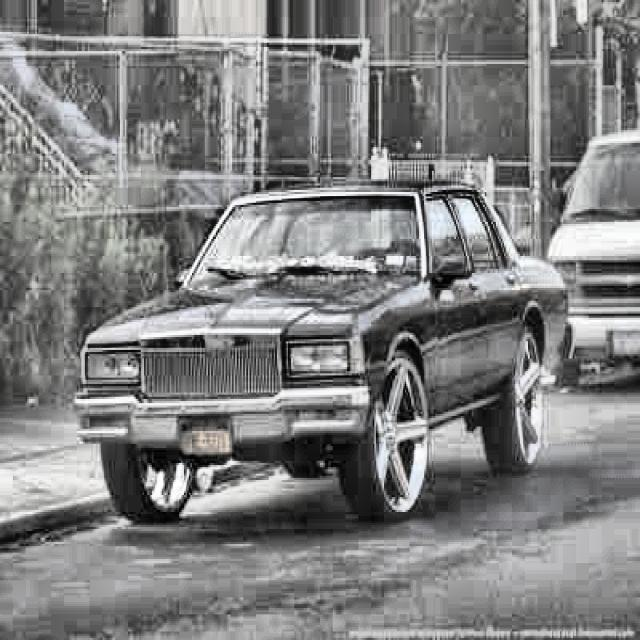license_plate: (179, 423, 234, 459)
